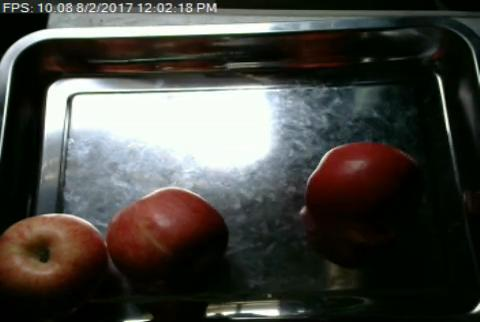apple: (305, 142, 422, 256), (108, 187, 229, 285), (0, 213, 107, 310)
